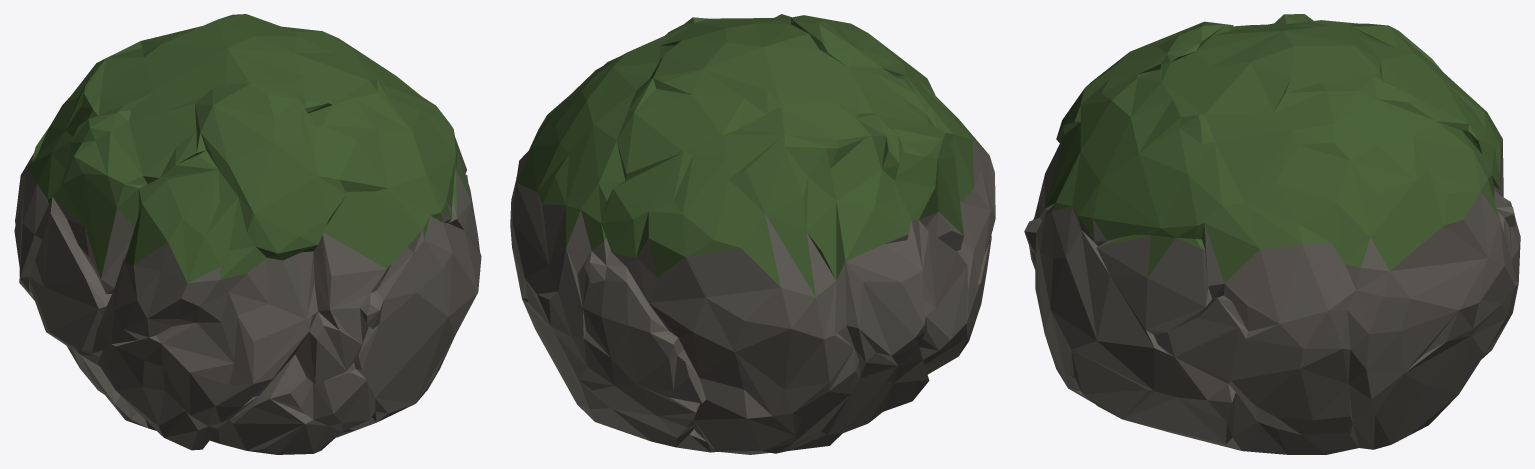
Rendered from rock-4.glb.
The picture shows the model from 3 angles, left to right: view 1: azimuth 30°, elevation 25°; view 2: azimuth 150°, elevation 25°; view 3: azimuth 270°, elevation 25°; orthographic projection. The views are drawn at different scales.
Parts seen in each view (by area): view 1: output_unwrapped; view 2: output_unwrapped; view 3: output_unwrapped.
Part boxes in pixels (x1=…): output_unwrapped: x1=14, y1=14, x2=481, y2=454; output_unwrapped: x1=510, y1=14, x2=995, y2=454; output_unwrapped: x1=1024, y1=14, x2=1520, y2=454.
Bounding box in the file's own units: 1.96 × 1.55 × 2.
